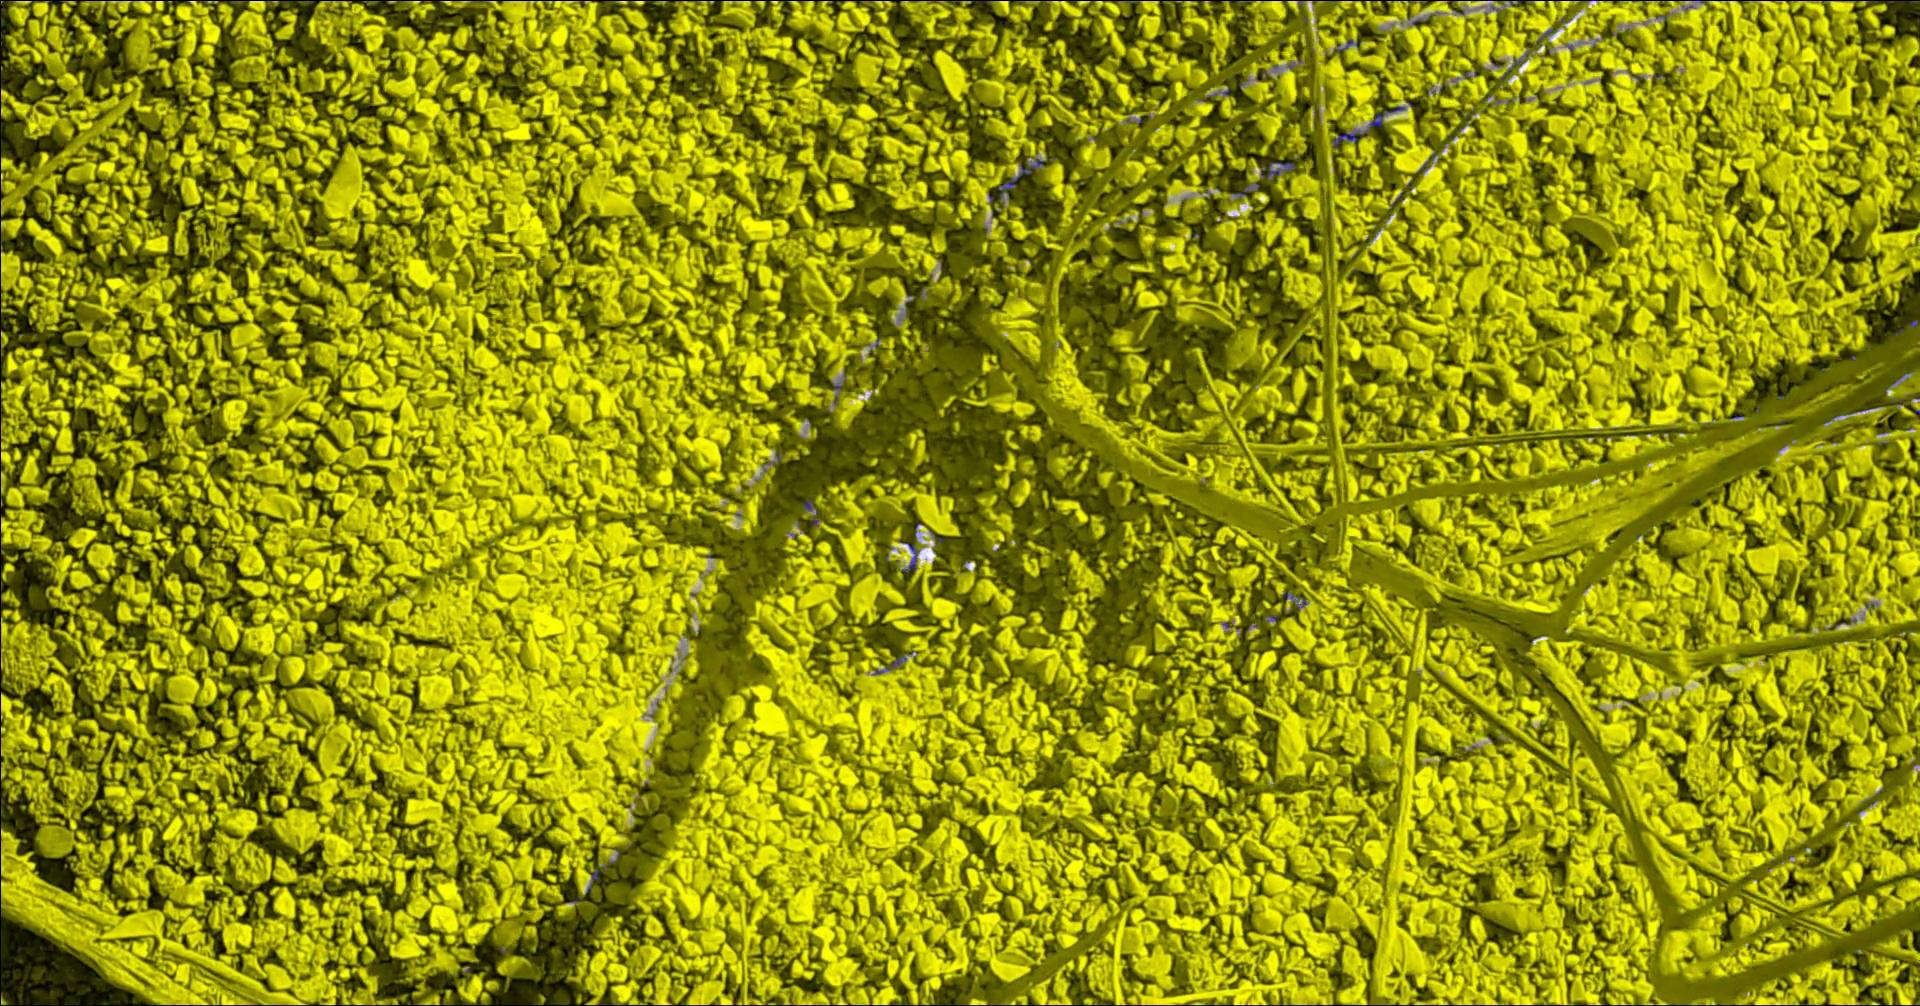ant: (1332, 105, 1404, 147), (996, 158, 1043, 198), (1260, 161, 1295, 179), (902, 542, 919, 572), (1283, 591, 1305, 610), (803, 499, 818, 525), (1336, 39, 1360, 52), (884, 655, 905, 669)
